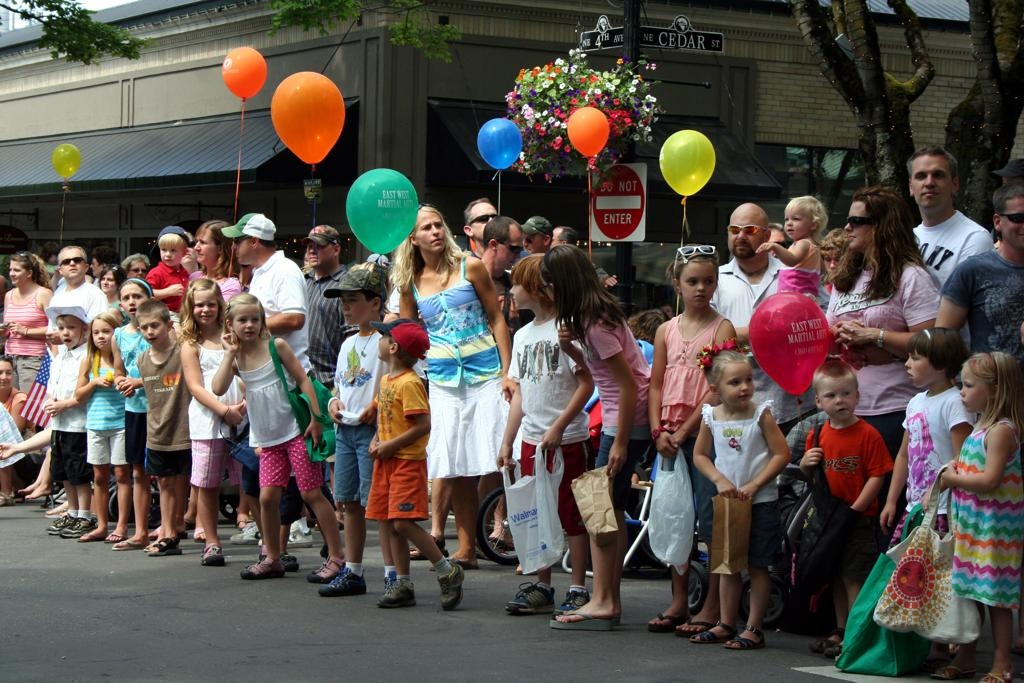human_face: (910, 154, 952, 208), (678, 260, 716, 306), (958, 362, 992, 411), (844, 200, 876, 250), (728, 215, 766, 257), (717, 361, 753, 403), (820, 376, 854, 420), (905, 342, 937, 386), (998, 197, 1024, 248), (415, 210, 445, 251), (341, 284, 371, 324), (230, 303, 260, 341), (537, 268, 563, 310), (509, 270, 537, 308), (471, 202, 499, 238), (498, 230, 524, 268), (783, 202, 811, 236), (138, 314, 168, 344), (120, 283, 146, 317), (306, 236, 334, 266), (56, 315, 82, 347), (192, 290, 216, 324), (822, 250, 848, 278), (194, 230, 216, 262), (764, 229, 786, 260), (61, 248, 85, 276), (91, 318, 113, 346), (160, 236, 182, 264), (230, 234, 252, 262), (377, 330, 397, 360), (520, 230, 544, 255), (126, 258, 146, 282), (178, 238, 196, 264), (9, 260, 27, 282), (302, 247, 320, 269), (1, 358, 13, 388), (100, 269, 116, 291), (548, 228, 562, 250), (659, 307, 673, 325), (90, 258, 102, 276)
